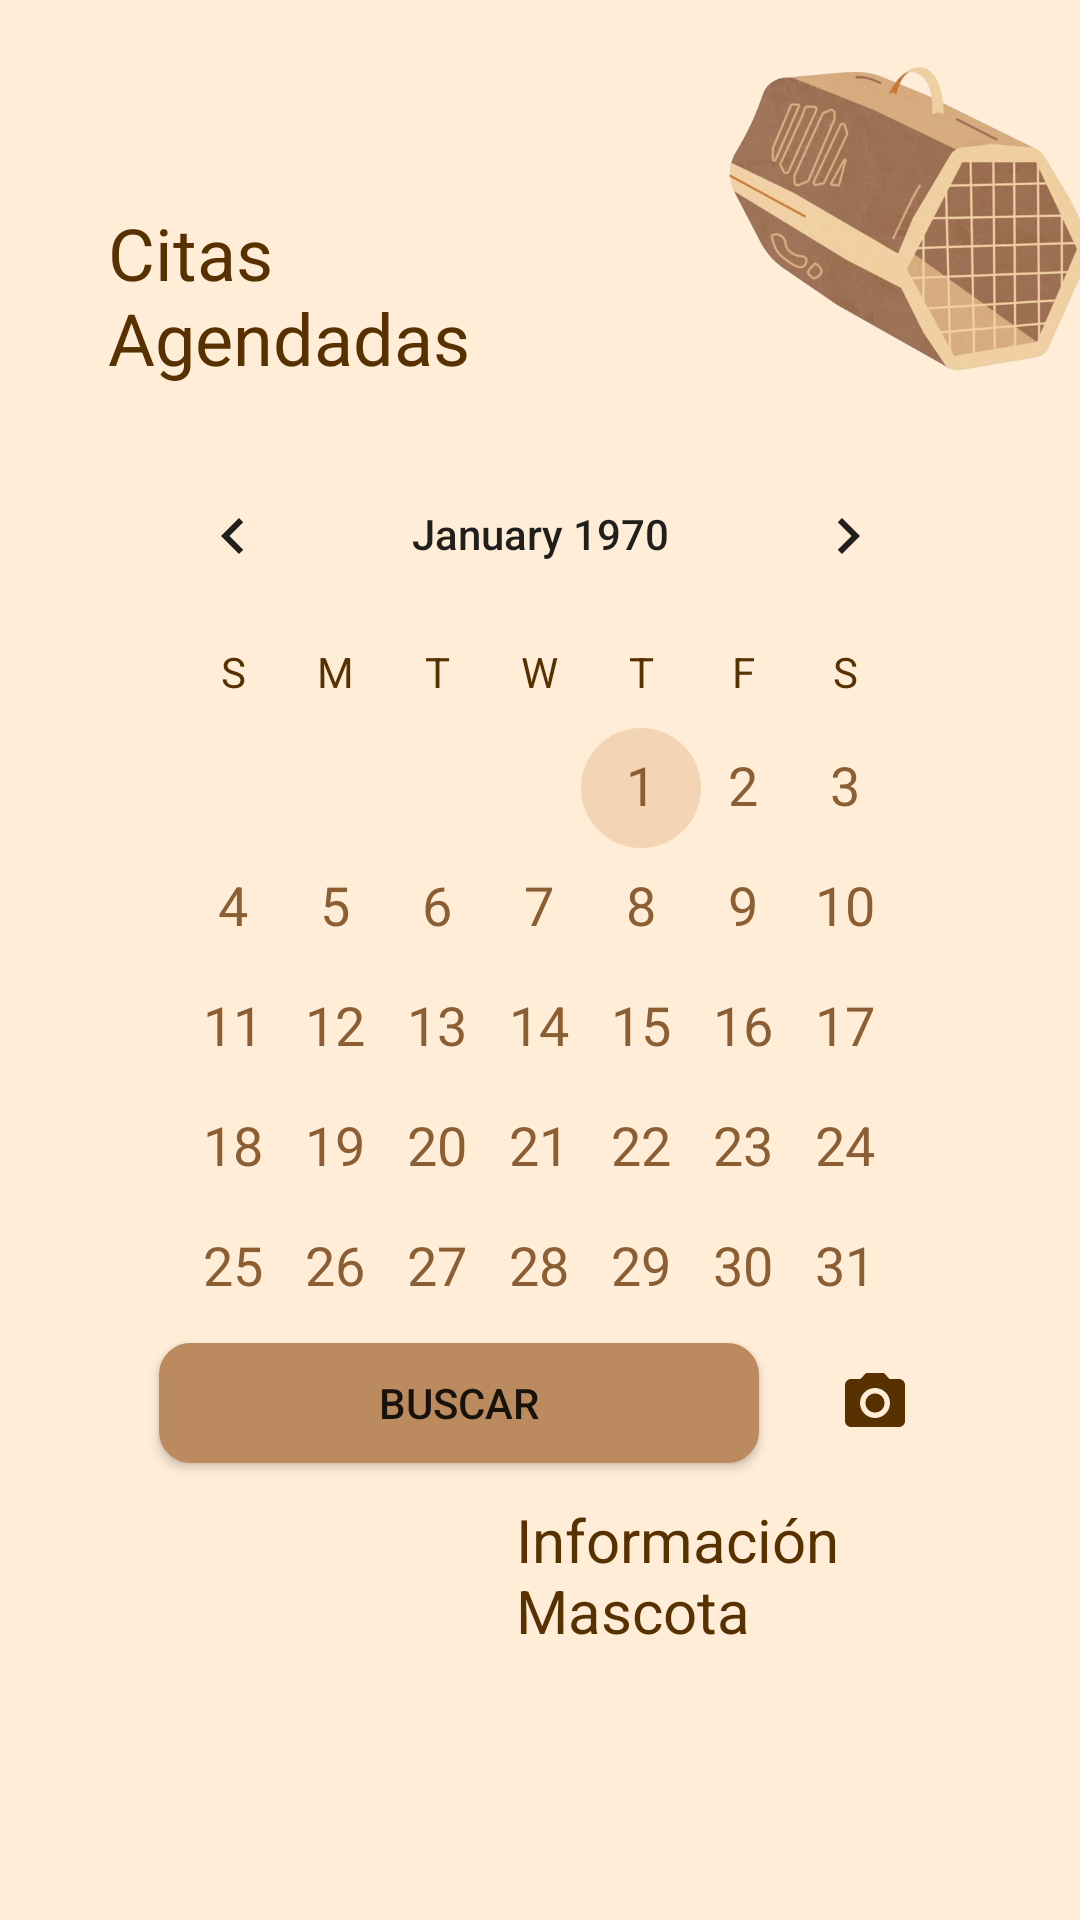

Screen size 1080w x 1920h. Icon name, then its center in pixels as point (x, y):
camera: point (875, 1400)
casita: point (904, 219)
